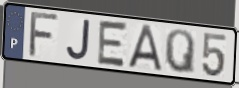5: (200, 31, 228, 79)
A: (126, 23, 163, 72)
E: (95, 19, 130, 69)
F: (27, 10, 62, 59)
J: (65, 19, 92, 62)
Q: (164, 28, 197, 77)
